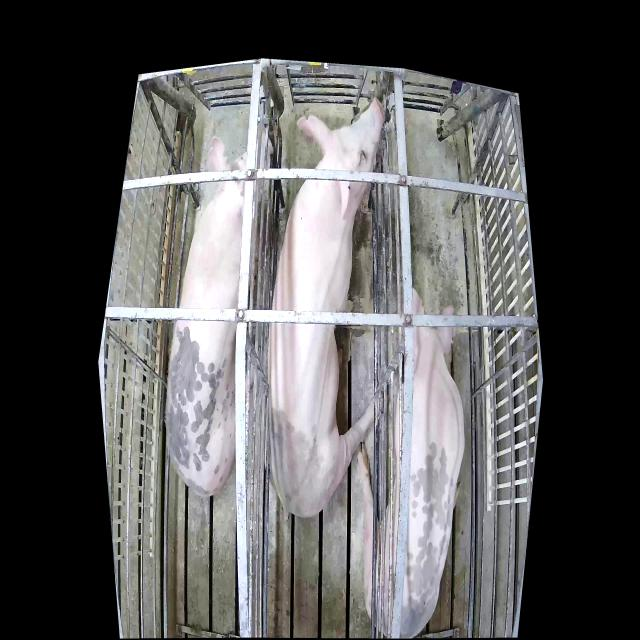pig: (267, 97, 385, 519), (165, 129, 274, 499), (359, 288, 465, 638)
